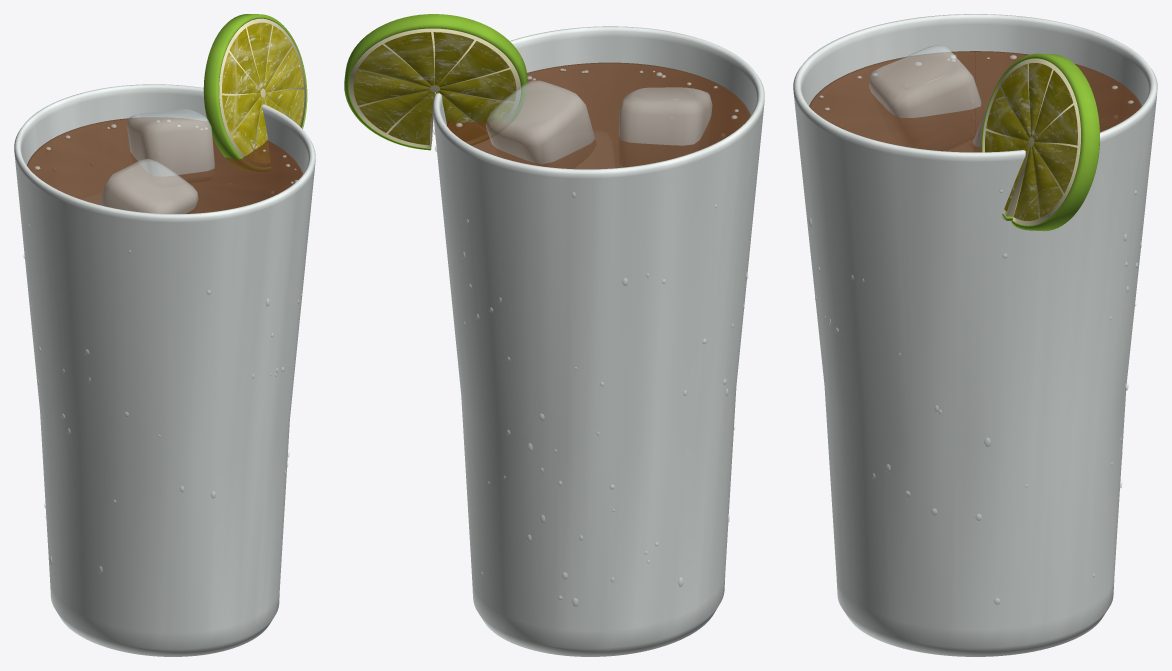
The model's file is refrigerante.glb.
3 renders of one model, left to right at view 1: azimuth 30°, elevation 25°; view 2: azimuth 150°, elevation 25°; view 3: azimuth 270°, elevation 25°, orthographic. The views are drawn at different scales.
Parts seen in each view (by area): view 1: Copo_de_vidro_de_fundo_pesado001, Cola_gelada, Gelo_lapidado_pelo_derretimento, Vesículas_dos_gomos, Epicarpo_do_cítrico, Albedo_e_membranas; view 2: Copo_de_vidro_de_fundo_pesado001, Cola_gelada, Vesículas_dos_gomos, Gelo_lapidado_pelo_derretimento, Epicarpo_do_cítrico, Albedo_e_membranas, Condensação_no_vidro_frio001; view 3: Copo_de_vidro_de_fundo_pesado001, Cola_gelada, Vesículas_dos_gomos, Gelo_lapidado_pelo_derretimento, Epicarpo_do_cítrico, Albedo_e_membranas, Condensação_no_vidro_frio001.
Part boxes in pixels (x1,y1,x2,y2): Copo_de_vidro_de_fundo_pesado001: [14, 84, 315, 656]; Cola_gelada: [27, 117, 302, 213]; Gelo_lapidado_pelo_derretimento: [34, 109, 297, 213]; Vesículas_dos_gomos: [222, 22, 304, 163]; Epicarpo_do_cítrico: [203, 14, 307, 171]; Albedo_e_membranas: [219, 18, 306, 167]; Copo_de_vidro_de_fundo_pesado001: [432, 26, 764, 656]; Cola_gelada: [446, 62, 750, 169]; Vesículas_dos_gomos: [353, 32, 516, 145]; Gelo_lapidado_pelo_derretimento: [455, 68, 738, 168]; Epicarpo_do_cítrico: [344, 14, 527, 150]; Albedo_e_membranas: [349, 28, 520, 147]; Condensação_no_vidro_frio001: [433, 129, 747, 606]; Copo_de_vidro_de_fundo_pesado001: [793, 14, 1157, 656]; Cola_gelada: [809, 51, 1141, 152]; Vesículas_dos_gomos: [985, 63, 1077, 220]; Gelo_lapidado_pelo_derretimento: [819, 45, 1133, 151]; Epicarpo_do_cítrico: [981, 53, 1099, 231]; Albedo_e_membranas: [982, 58, 1080, 225]; Condensação_no_vidro_frio001: [809, 190, 1141, 604].
Bounding box in the file's own units: 0.09 × 0.148 × 0.08.
Materials: 7 (1 with a texture image).
